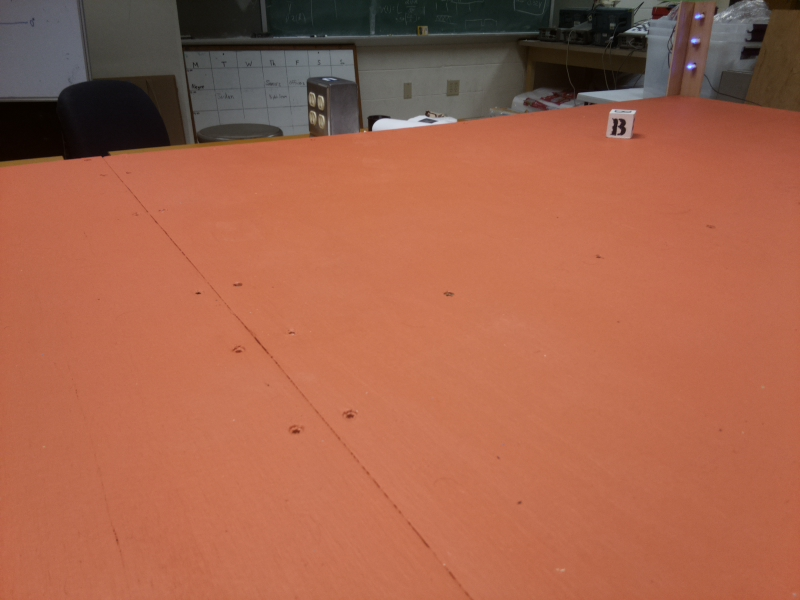blockB: (605, 110, 638, 142)
corner: (664, 1, 716, 100)
